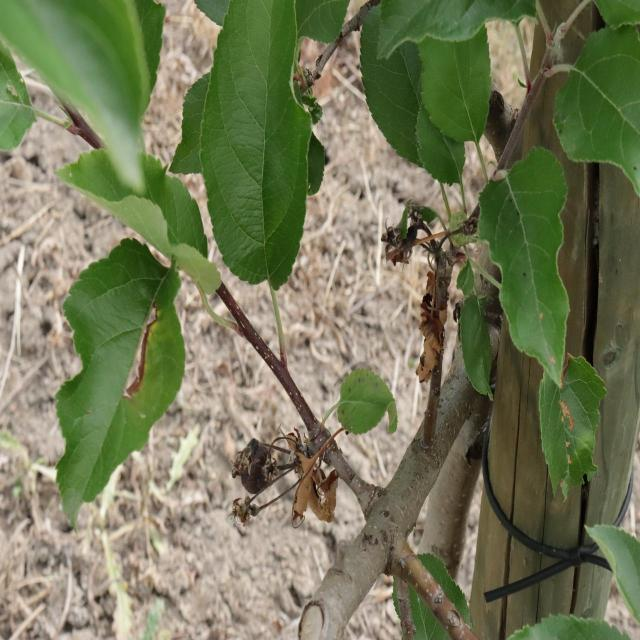-FireBlight-: (379, 220, 463, 381), (231, 432, 343, 525)
